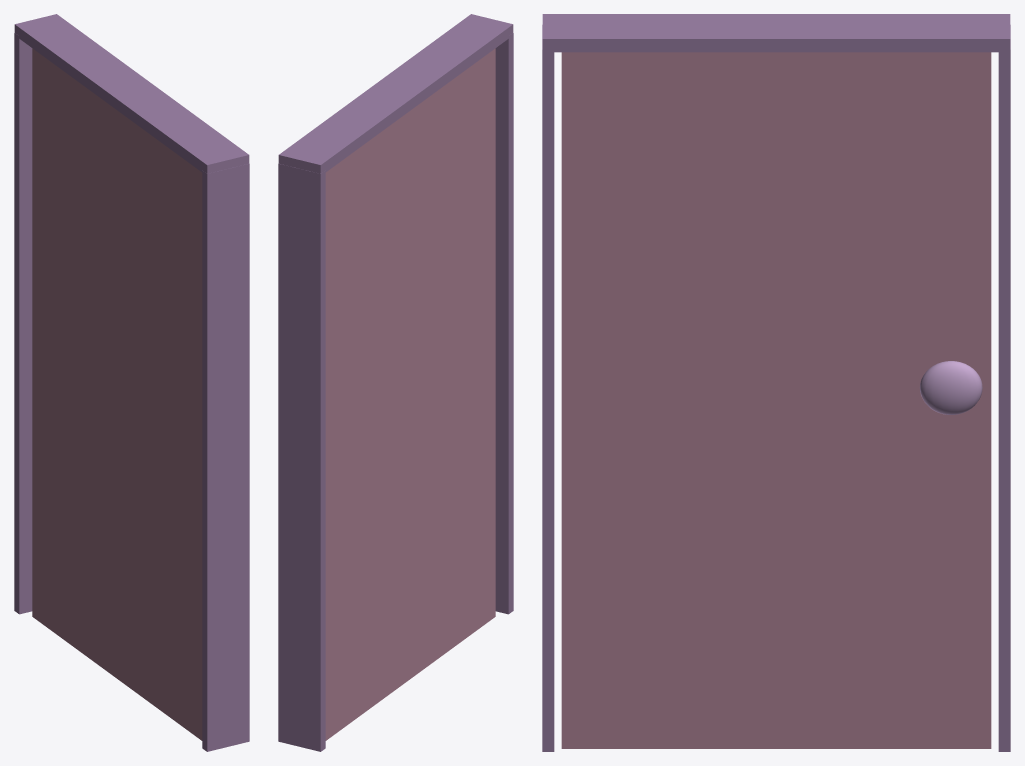
Rendered from DoorClose.fbx.
3 renders of one model, left to right at view 1: azimuth 30°, elevation 25°; view 2: azimuth 150°, elevation 25°; view 3: azimuth 270°, elevation 25°, orthographic. The views are drawn at different scales.
Visible parts, largest first — view 1: Door, DoorFrame; view 2: Door, DoorFrame; view 3: Door, DoorFrame, DoorKnob.
Boxes of the visible parts, bbox=[...] form: Door: bbox=[32, 48, 202, 740]; DoorFrame: bbox=[14, 14, 249, 751]; Door: bbox=[325, 48, 495, 740]; DoorFrame: bbox=[278, 14, 513, 751]; Door: bbox=[561, 52, 991, 748]; DoorFrame: bbox=[542, 14, 1010, 751]; DoorKnob: bbox=[919, 361, 982, 414].
Size of the model in its own units: 0.3481 by 4.54 by 2.69.
